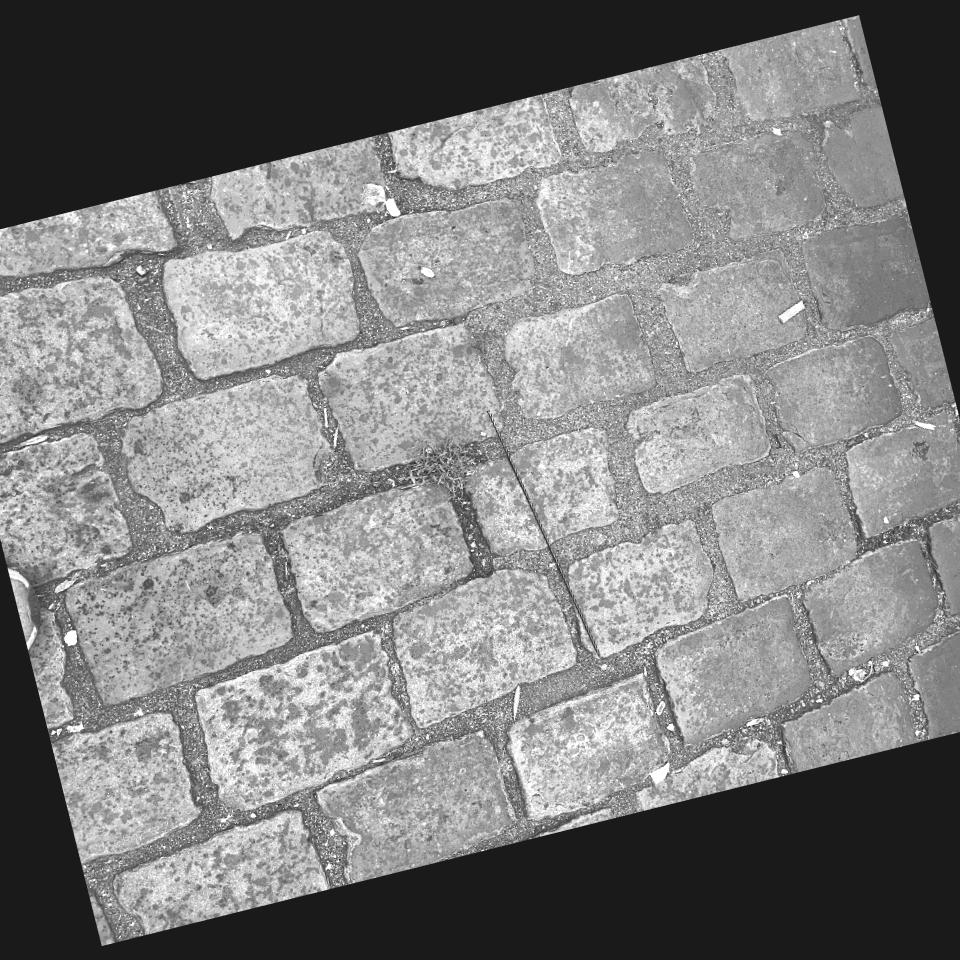weed: (412, 438, 473, 495)
